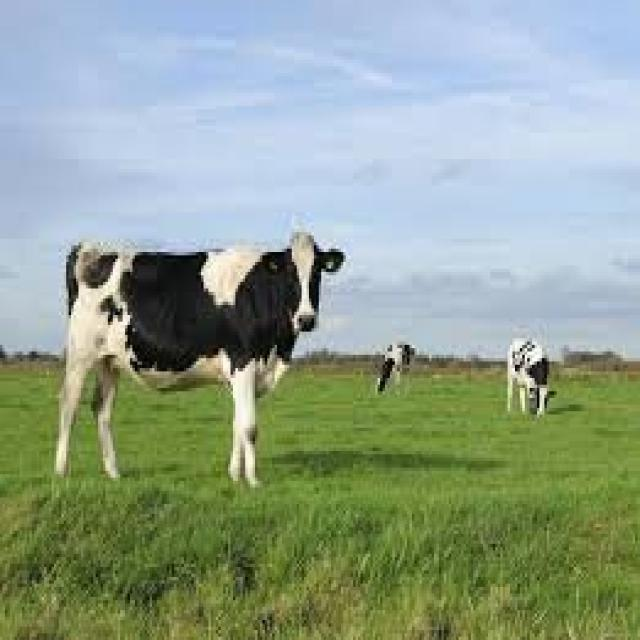cow: (32, 218, 357, 434)
